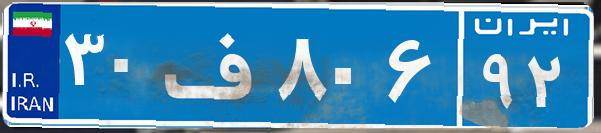0: (330, 28, 385, 110), (110, 28, 158, 105)
2: (525, 38, 570, 115)
3: (57, 26, 110, 107)
6: (385, 28, 445, 110)
8: (273, 28, 330, 110)
9: (475, 38, 525, 113)
ف: (158, 15, 273, 115)
